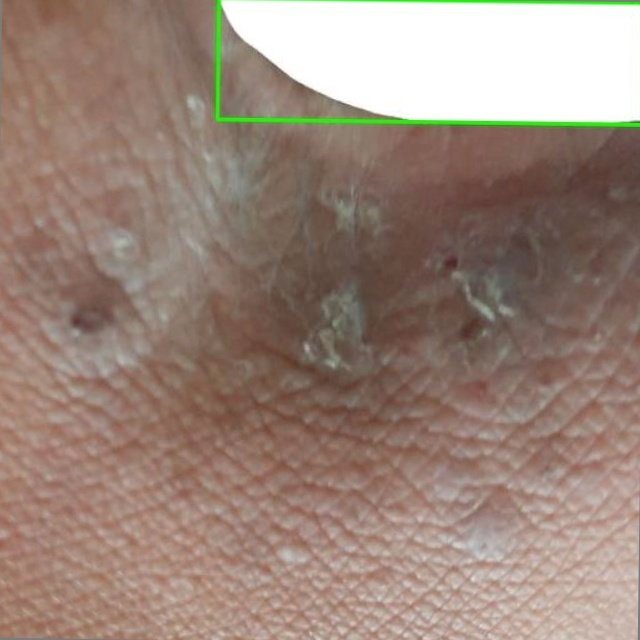Scabies: (217, 0, 639, 124)
